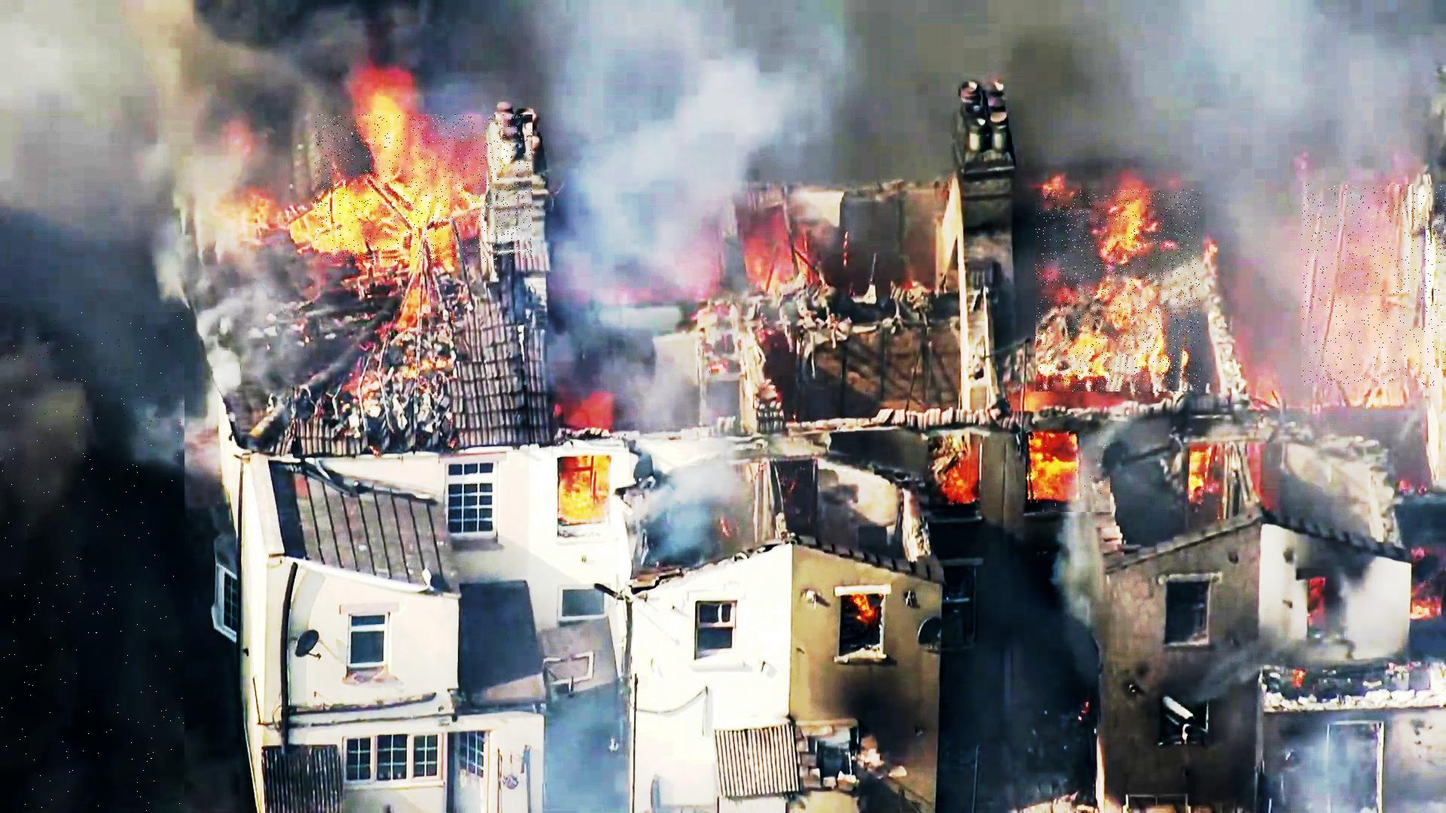fire: (1036, 190, 1201, 393), (315, 115, 532, 263), (1301, 185, 1446, 386), (1026, 431, 1112, 512)
smoke: (0, 312, 185, 812)
